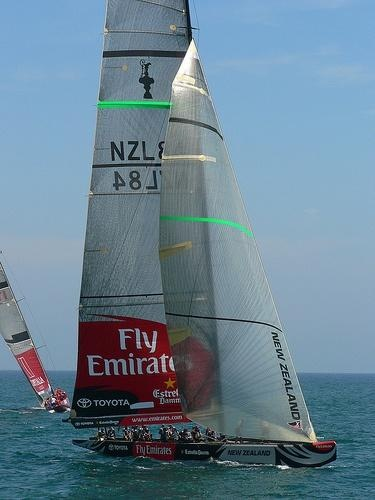boat: (63, 1, 340, 471), (1, 250, 71, 414)
